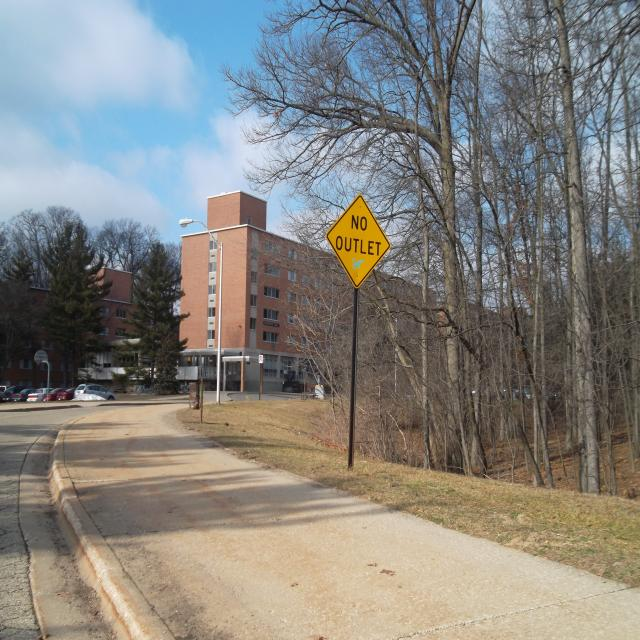warning: (326, 193, 389, 290)
